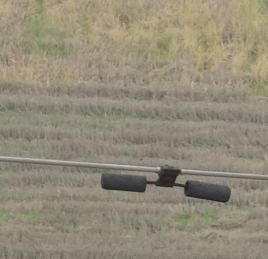damper: (96, 162, 232, 205)
